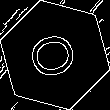O_E: (25, 28, 85, 82)
